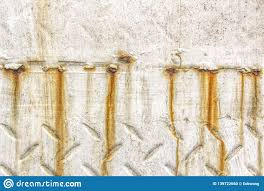rust: (198, 61, 232, 177), (98, 60, 122, 176), (164, 61, 188, 177), (51, 60, 71, 176), (3, 60, 32, 125), (252, 62, 262, 138), (239, 63, 247, 151), (112, 50, 136, 65)
